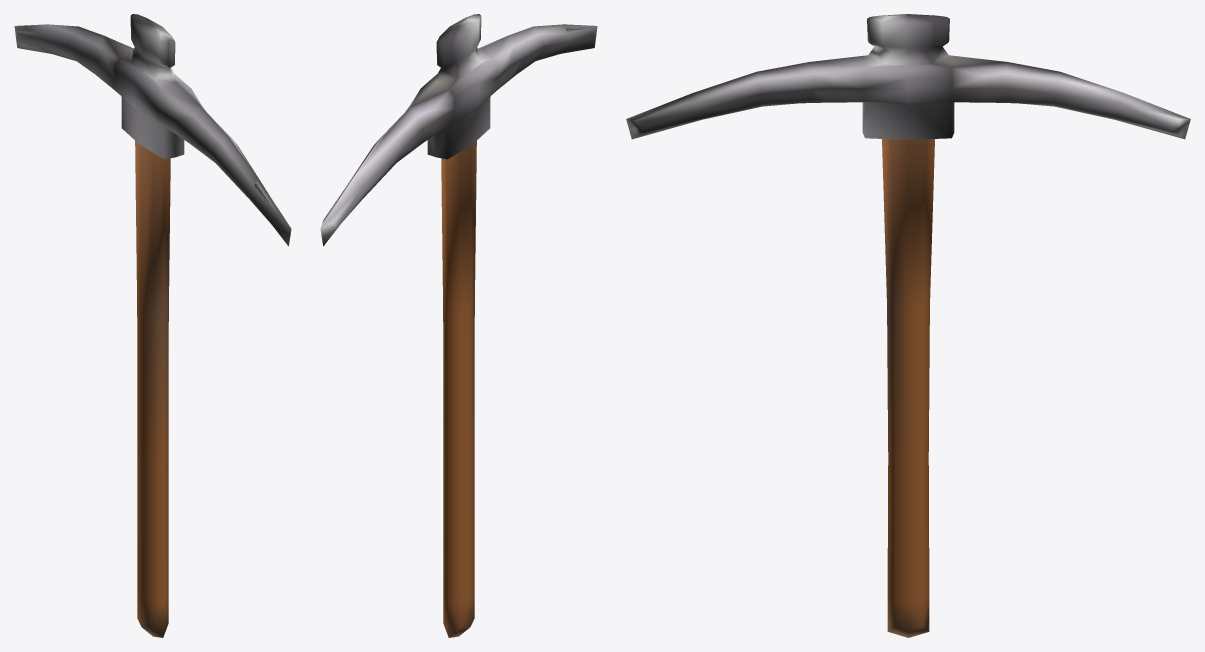
The model's file is SteelPickaxe.fbx.
3 views of the same model, side by side, from view 1: azimuth 30°, elevation 25°; view 2: azimuth 150°, elevation 25°; view 3: azimuth 270°, elevation 25° (orthographic).
Visible parts, largest first — view 1: Plane.010; view 2: Plane.010; view 3: Plane.010.
Part boxes in pixels (<box>): Plane.010: <box>14,14,291,637</box>; Plane.010: <box>320,14,597,637</box>; Plane.010: <box>626,14,1190,637</box>.
Size of the model in its own units: 34.05 by 498 by 410.
